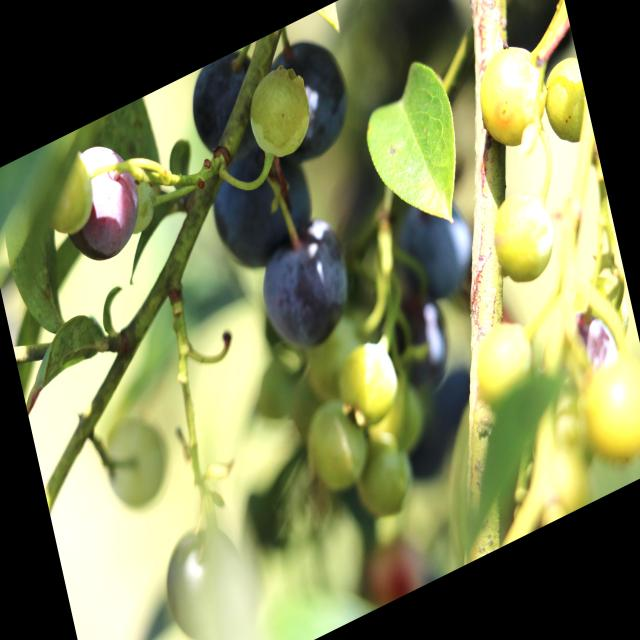blueberry: (244, 201, 363, 376), (203, 122, 326, 289), (253, 15, 364, 181), (384, 169, 490, 322), (180, 41, 280, 191), (56, 129, 150, 276), (153, 508, 253, 640)
blueberry-unripe: (92, 403, 176, 526), (472, 34, 552, 158), (483, 177, 564, 296), (302, 384, 378, 504), (242, 59, 317, 167), (578, 347, 640, 474), (331, 334, 403, 432), (469, 314, 538, 414), (537, 51, 594, 156), (352, 426, 413, 518)
